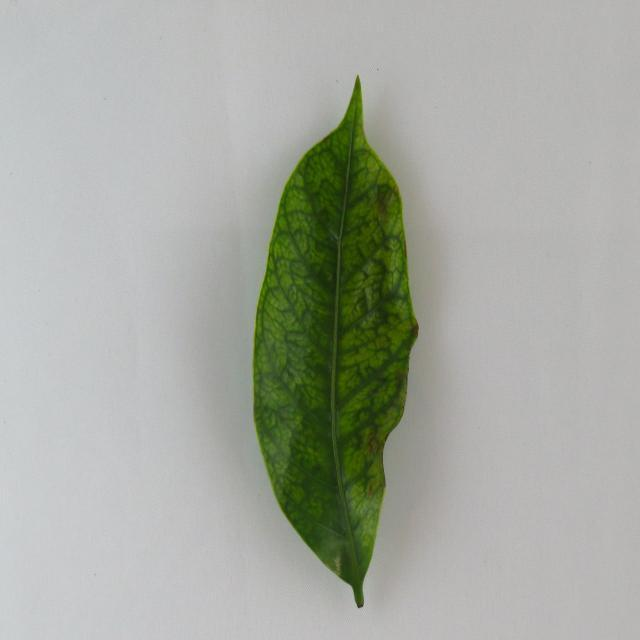DeficienciaNutricional-Manganeso: (254, 78, 419, 607)
